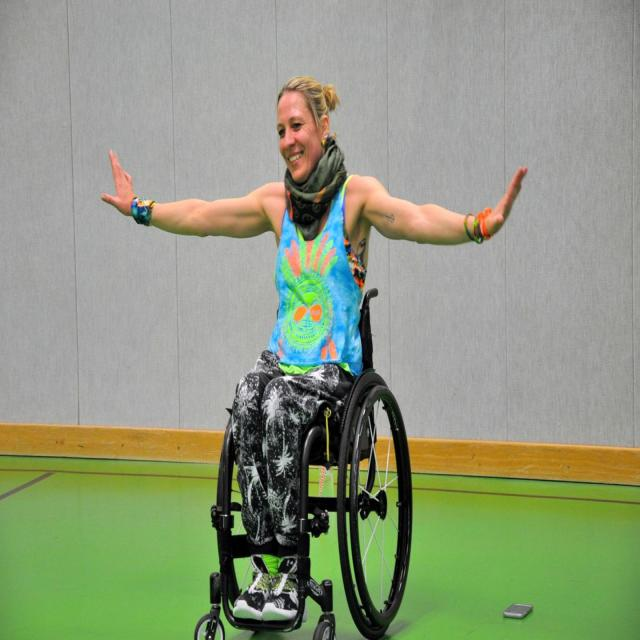wheelchairs: (192, 282, 424, 640)
